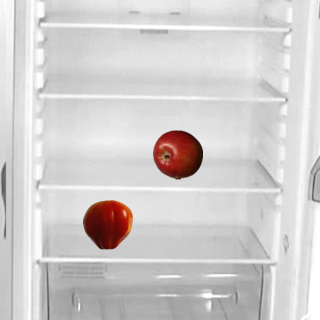Apple Braeburn: (152, 129, 202, 179)
Tomato 1: (82, 199, 132, 249)
